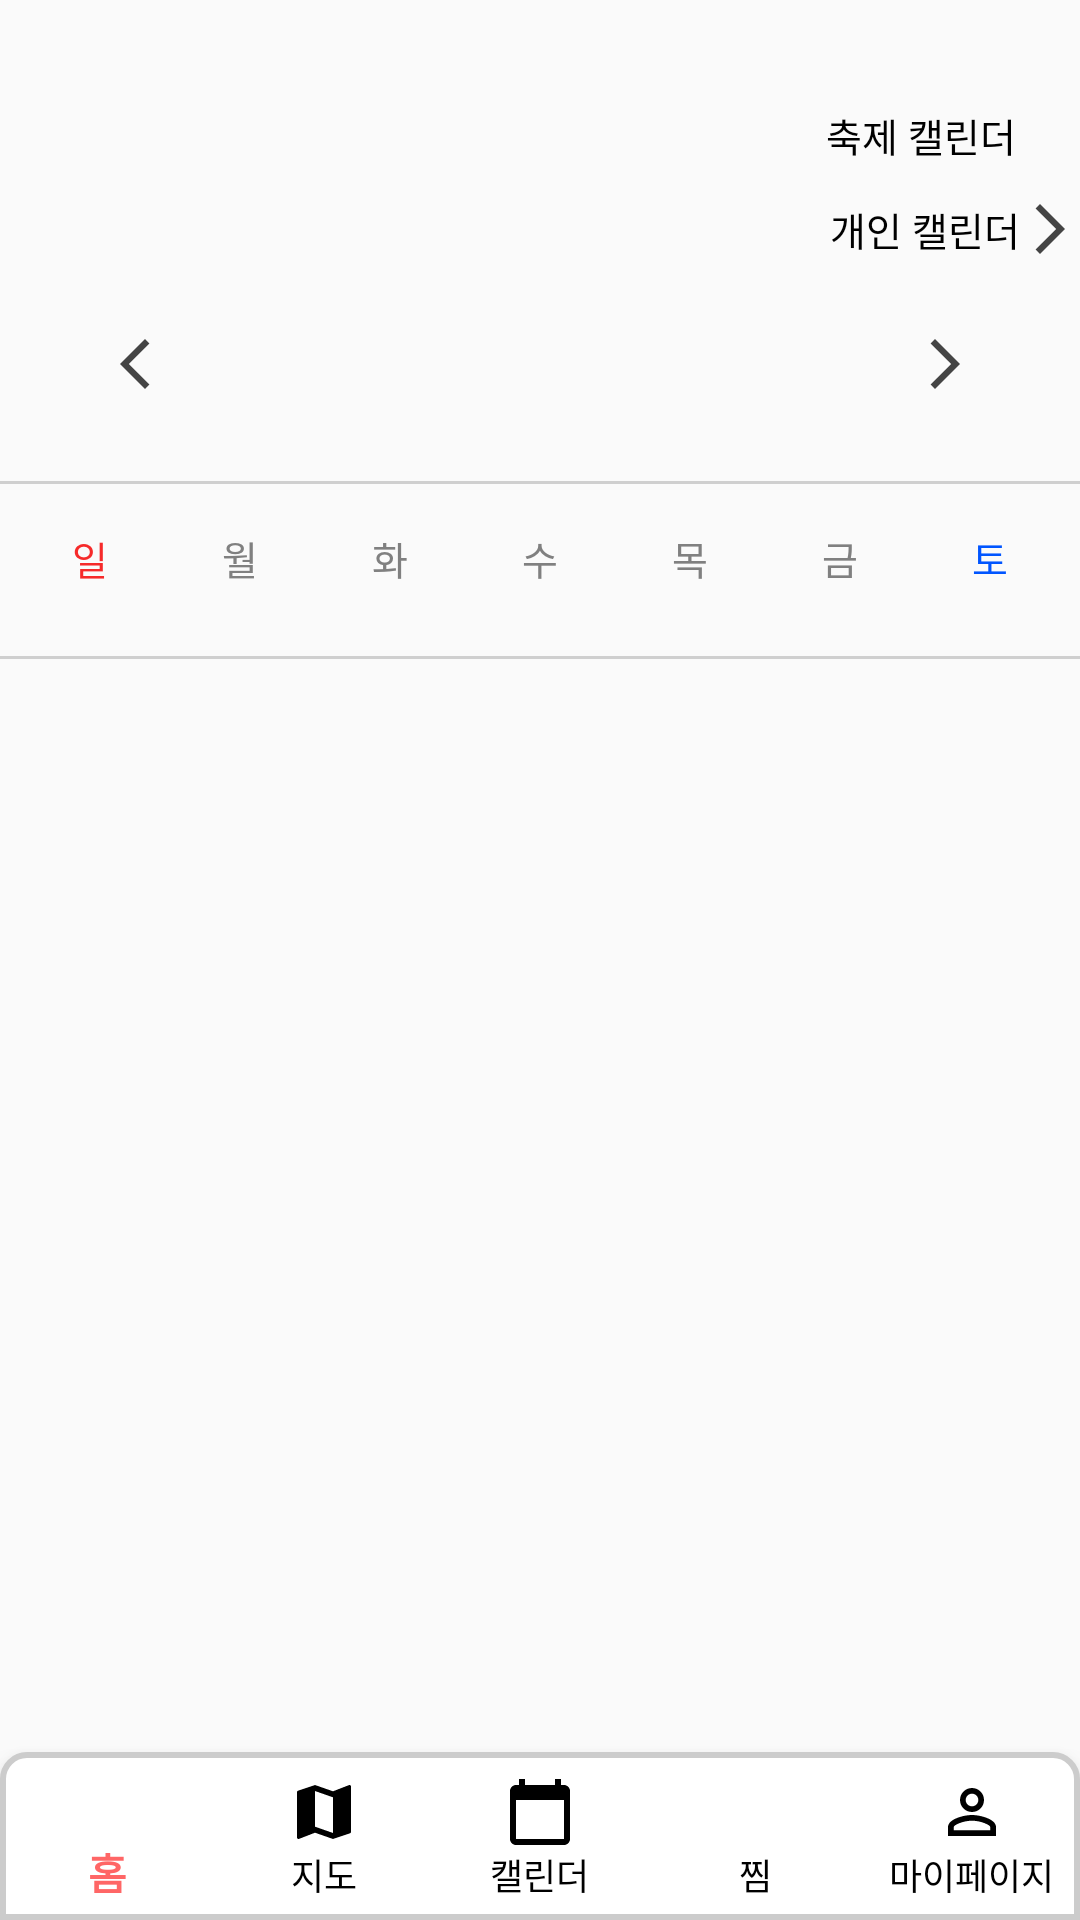

Icon bounding boxes for this 1080px x 1920px phone screenshot, format BBox(x1, y1, x2, y2):
cal prebtn: BBox(120, 339, 150, 389)
